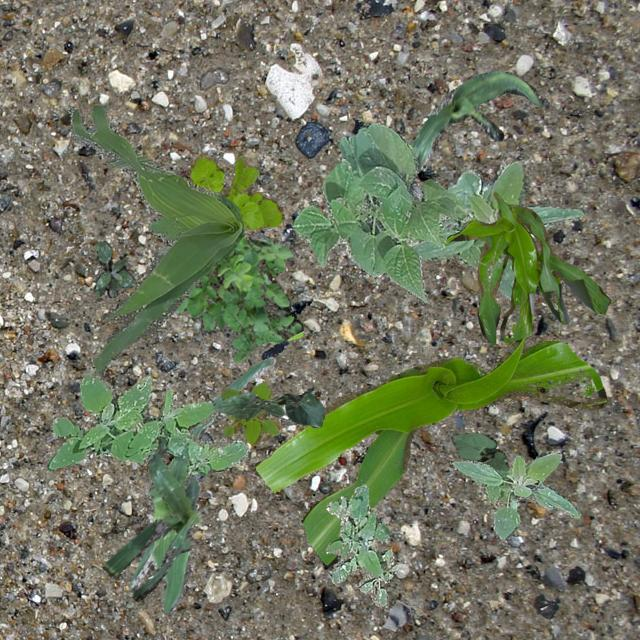crop: (254, 320, 606, 566), (128, 356, 274, 612), (292, 121, 468, 302), (443, 190, 610, 344), (412, 160, 582, 298), (410, 70, 550, 226), (102, 438, 202, 600), (212, 391, 322, 426), (448, 432, 508, 471), (508, 494, 516, 509)
weed: (68, 105, 244, 376), (46, 366, 246, 476), (174, 236, 302, 362), (450, 451, 580, 538), (324, 484, 396, 606), (188, 152, 282, 228), (220, 380, 280, 444), (92, 238, 134, 296)
